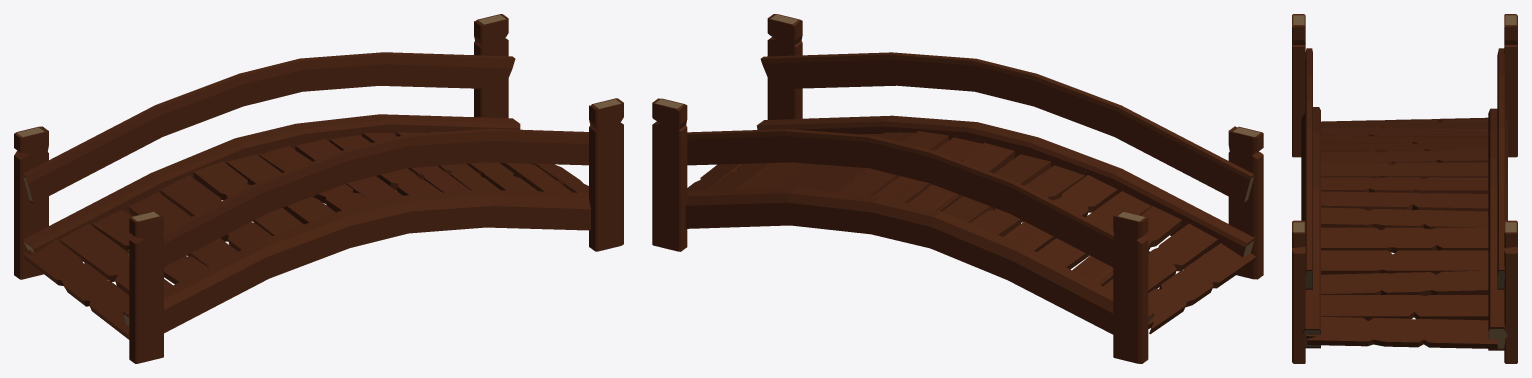
The model's file is Bridge.fbx.
3 views of the same model, side by side, from view 1: azimuth 30°, elevation 25°; view 2: azimuth 150°, elevation 25°; view 3: azimuth 270°, elevation 25° (orthographic). The views are drawn at different scales.
Visible parts, largest first — view 1: Cube.017; view 2: Cube.017; view 3: Cube.017.
Part boxes in pixels (x1,y1,x2,y2): Cube.017: (14, 14, 623, 363); Cube.017: (652, 14, 1263, 363); Cube.017: (1292, 14, 1517, 363).
Size of the model in its own units: 732 by 216 by 314.
